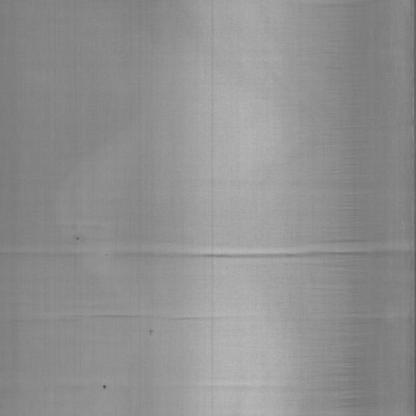inclusion: (96, 372, 120, 405)
